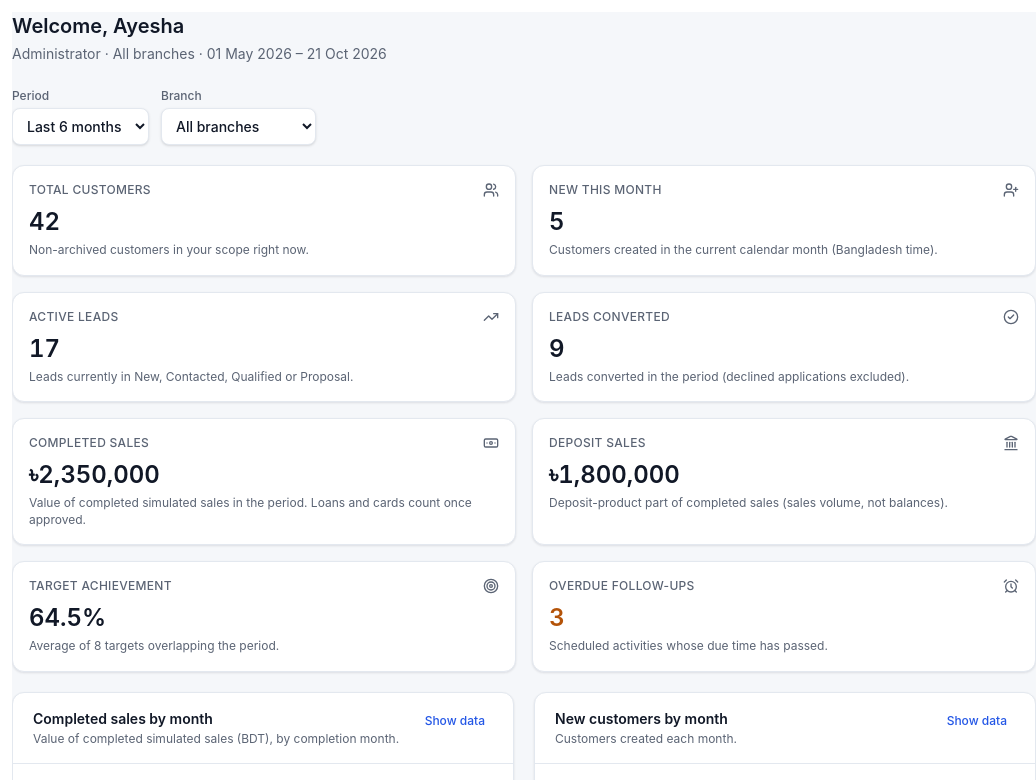
Test: DashboardPage › lets an admin filter by branch and shows officer performance
The width and height of the screenshot is (1036, 780).
Select "Gulshan Branch" in the dropdown labelled "Branch". click: (238, 126)
box: [161,108,316,145]
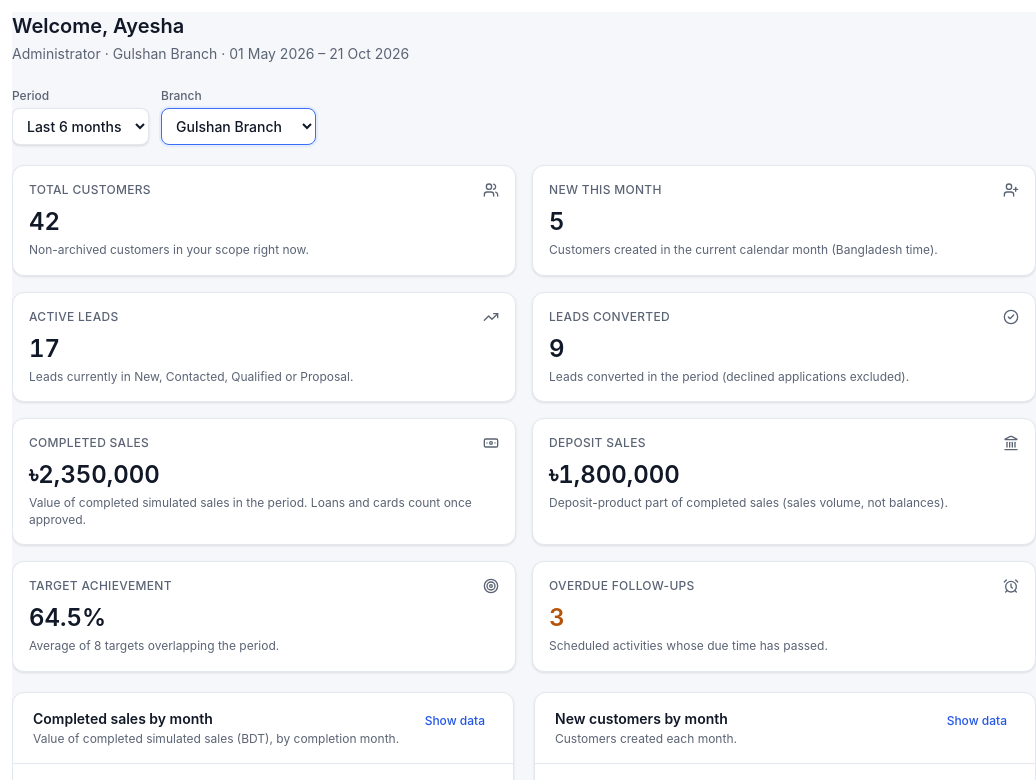
Expected: the text "Administrator · Gulshan Branch · 01 May 2026 – 21 Oct 2026" is shown, [12,44,409,64]
